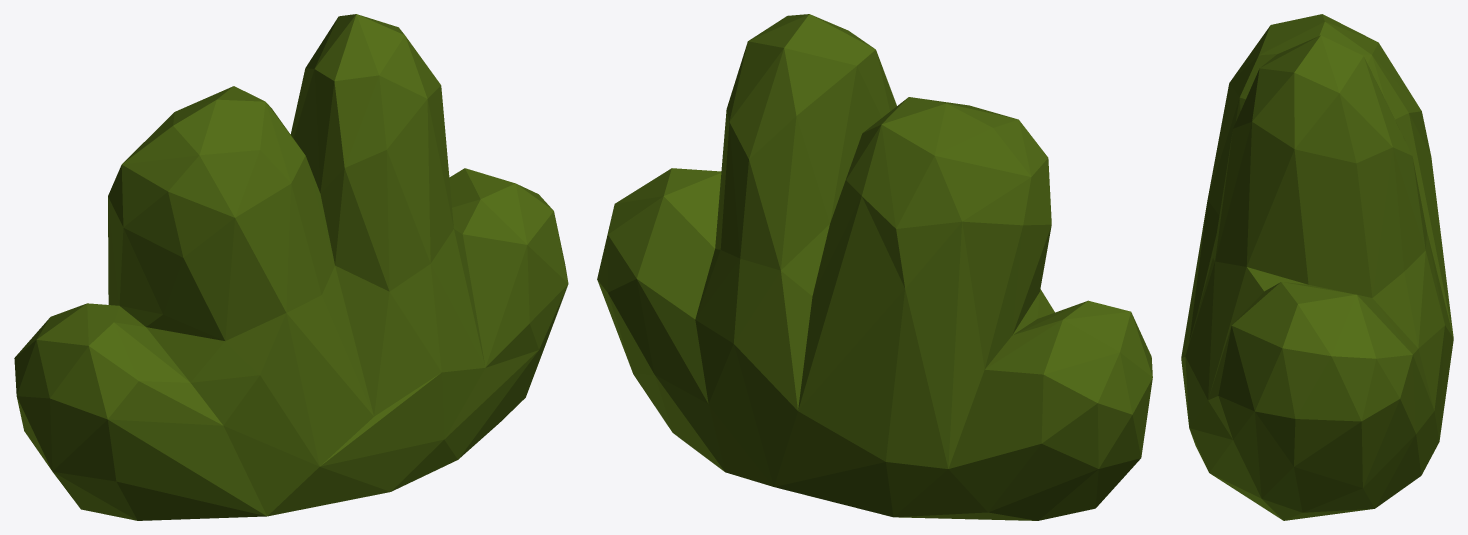
File: TreesAndBushes_003.fbx
3 views of the same model, side by side, from view 1: azimuth 30°, elevation 25°; view 2: azimuth 150°, elevation 25°; view 3: azimuth 270°, elevation 25° (orthographic).
Parts seen in each view (by area): view 1: TreesAndBushes_003; view 2: TreesAndBushes_003; view 3: TreesAndBushes_003.
Boxes of the visible parts, bbox=[...] form: TreesAndBushes_003: bbox=[14, 14, 568, 520]; TreesAndBushes_003: bbox=[597, 14, 1152, 520]; TreesAndBushes_003: bbox=[1181, 14, 1453, 520].
Bounding box in the file's own units: 111 × 85.88 × 49.98.
